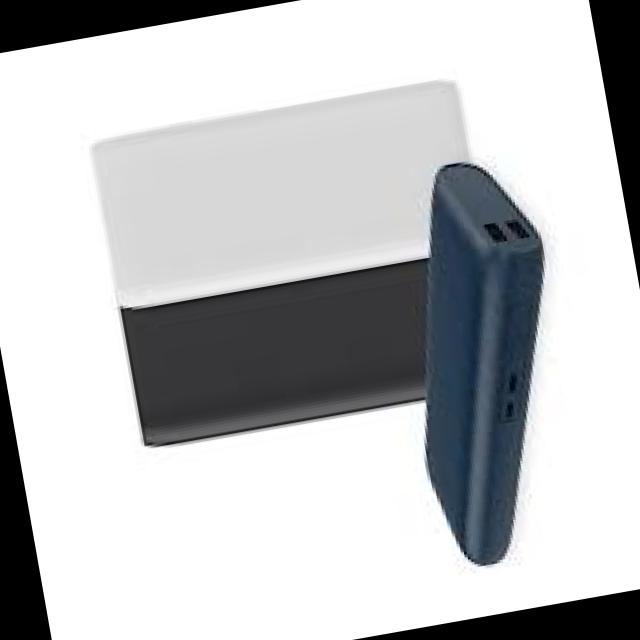power_bank: (85, 68, 492, 310), (369, 145, 596, 578), (118, 254, 469, 451)
